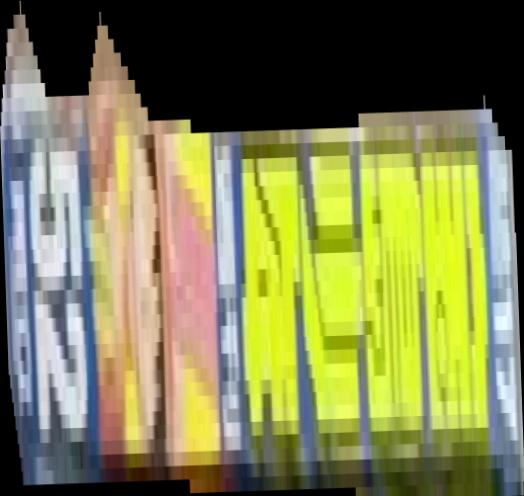flat: (1, 1, 524, 496)
